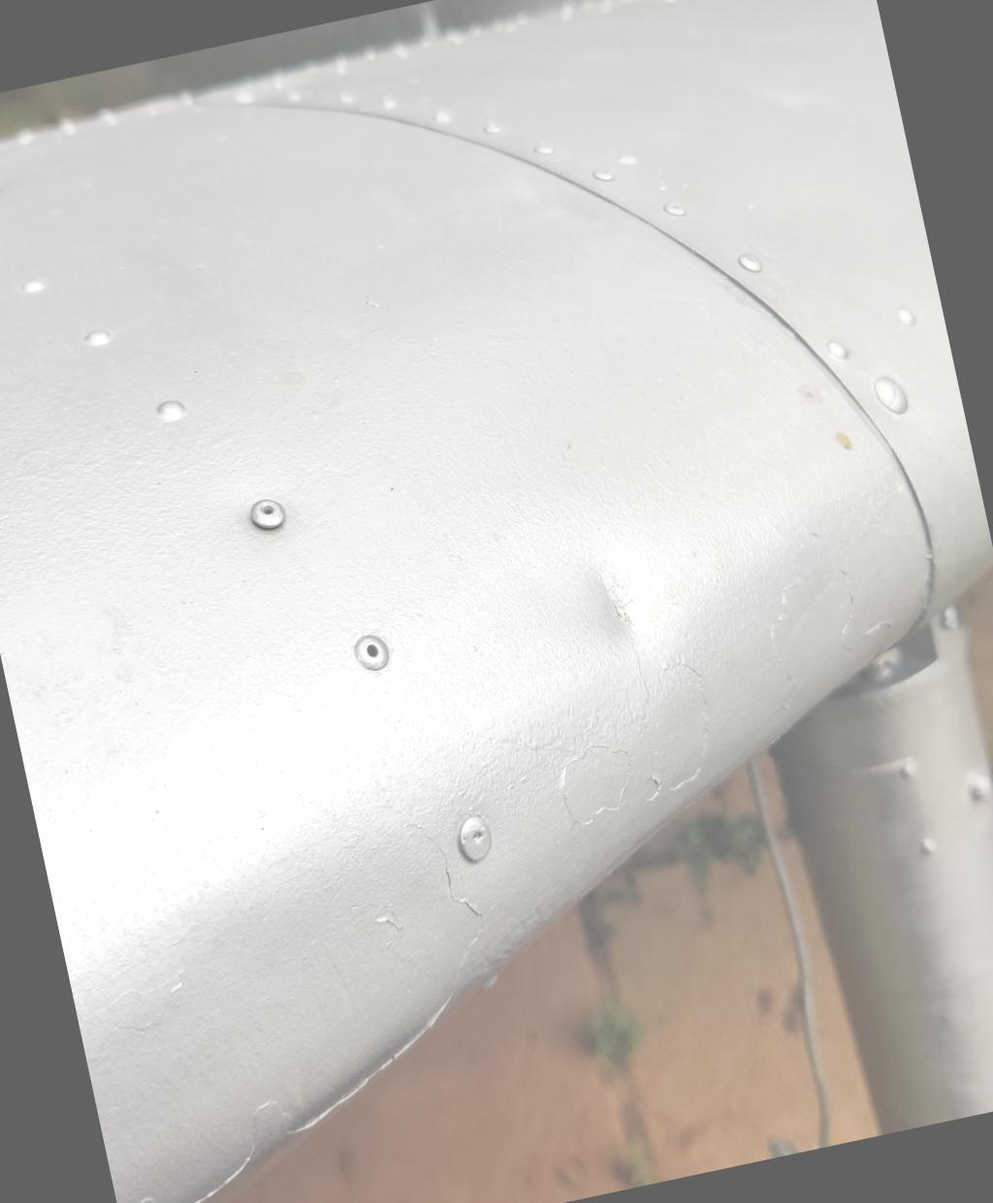dent: (503, 480, 731, 723)
